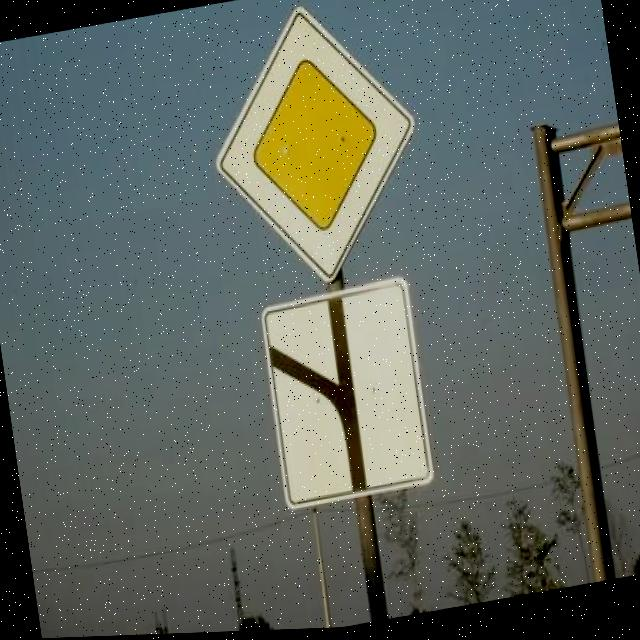signs: (195, 0, 435, 301)
